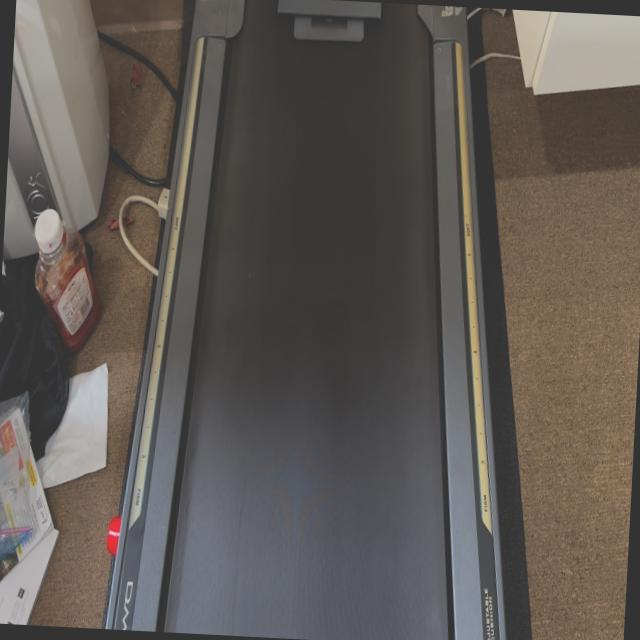Trash: (268, 0, 395, 54)
